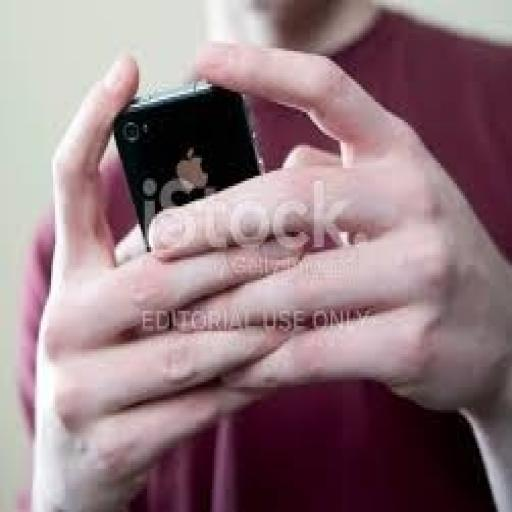texting: (20, 0, 509, 509)
